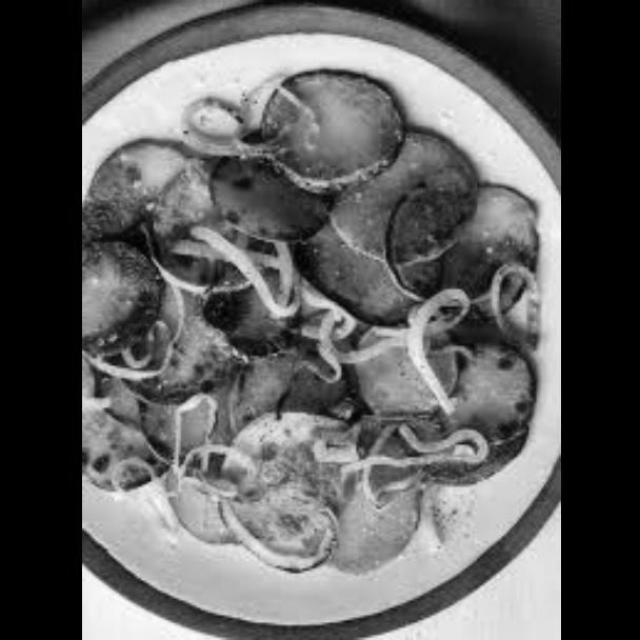cu hanh: (342, 430, 494, 510), (166, 229, 290, 316), (212, 502, 337, 567), (166, 96, 297, 157), (158, 390, 225, 492), (412, 291, 464, 404), (297, 288, 358, 379), (120, 472, 184, 552), (488, 263, 539, 354), (81, 346, 172, 391), (412, 500, 451, 555)
khoai tay: (79, 65, 550, 568)
